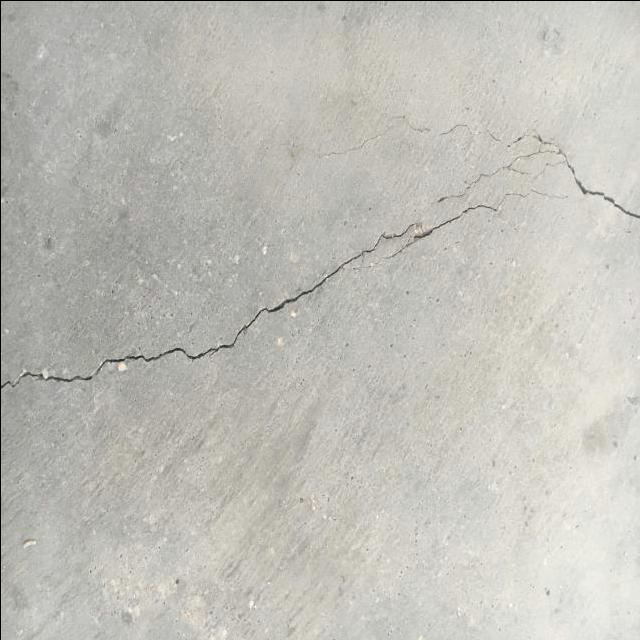SurfaceCrack: (0, 129, 639, 425)
